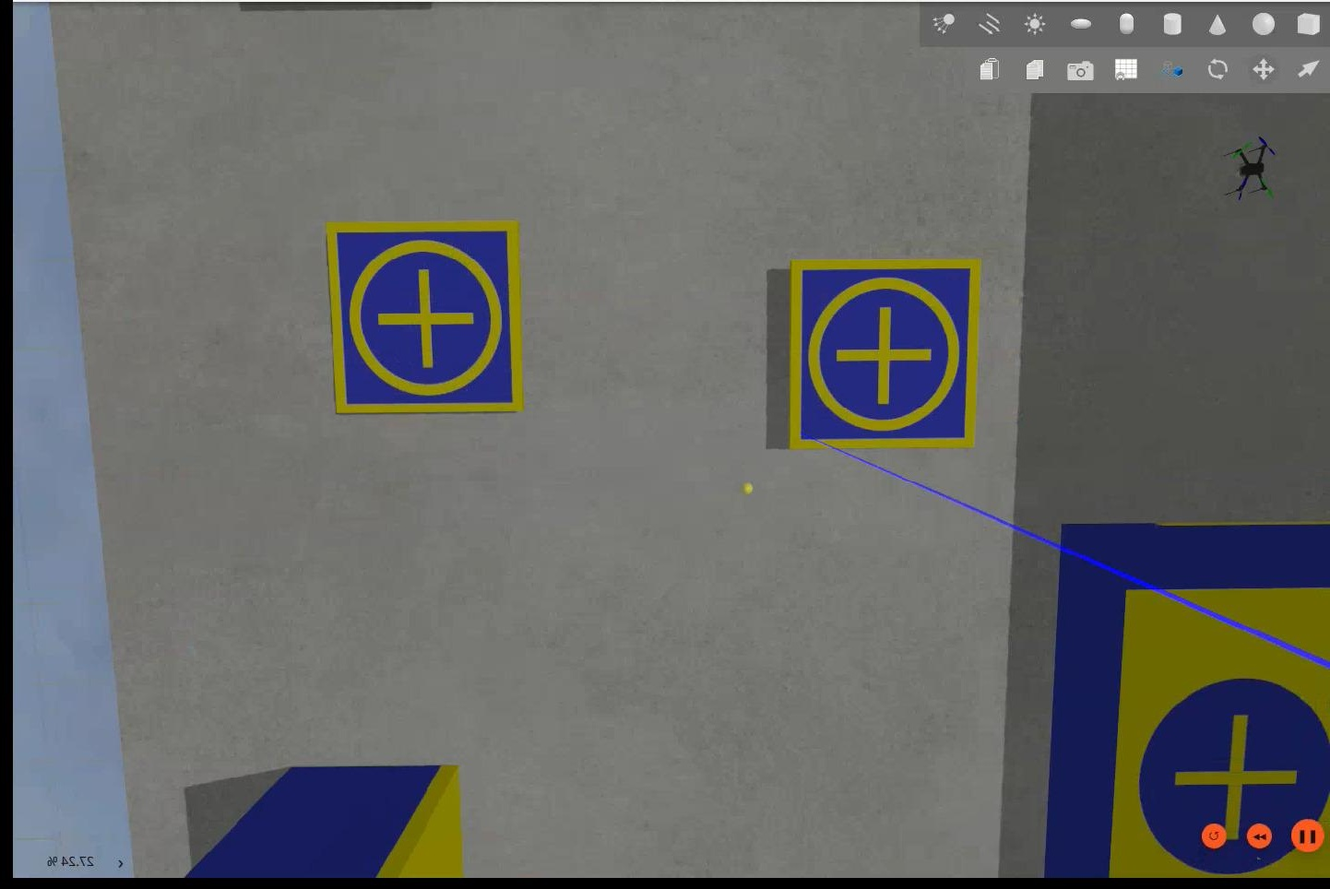large_base: (1050, 519, 1328, 889)
small_base: (323, 216, 526, 421), (783, 253, 985, 454)
